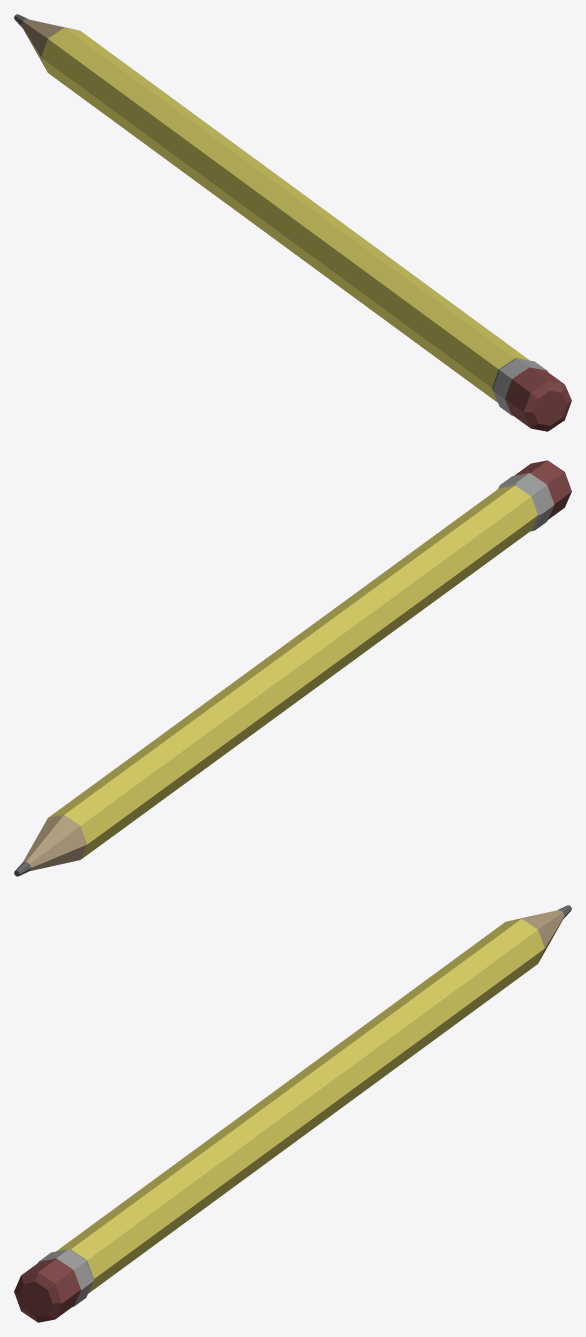
Rendered from Pencil.fbx.
3 renders of one model, top to bottom at view 1: azimuth 30°, elevation 25°; view 2: azimuth 150°, elevation 25°; view 3: azimuth 330°, elevation 25°, orthographic.
Parts seen in each view (by area): view 1: pCylinder1; view 2: pCylinder1; view 3: pCylinder1.
Boxes of the visible parts, x1=… form: pCylinder1: x1=14, y1=14, x2=571, y2=431; pCylinder1: x1=14, y1=460, x2=571, y2=876; pCylinder1: x1=14, y1=905, x2=571, y2=1322.
Bounding box in the file's own units: 0.0037 × 0.0037 × 0.0687.
